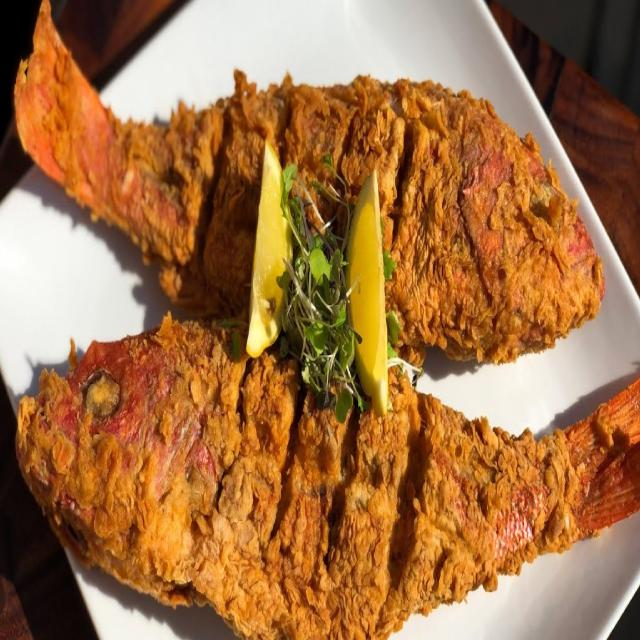FISH FRY: (14, 3, 639, 639)
